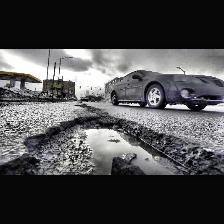pothole: (0, 114, 224, 174)
